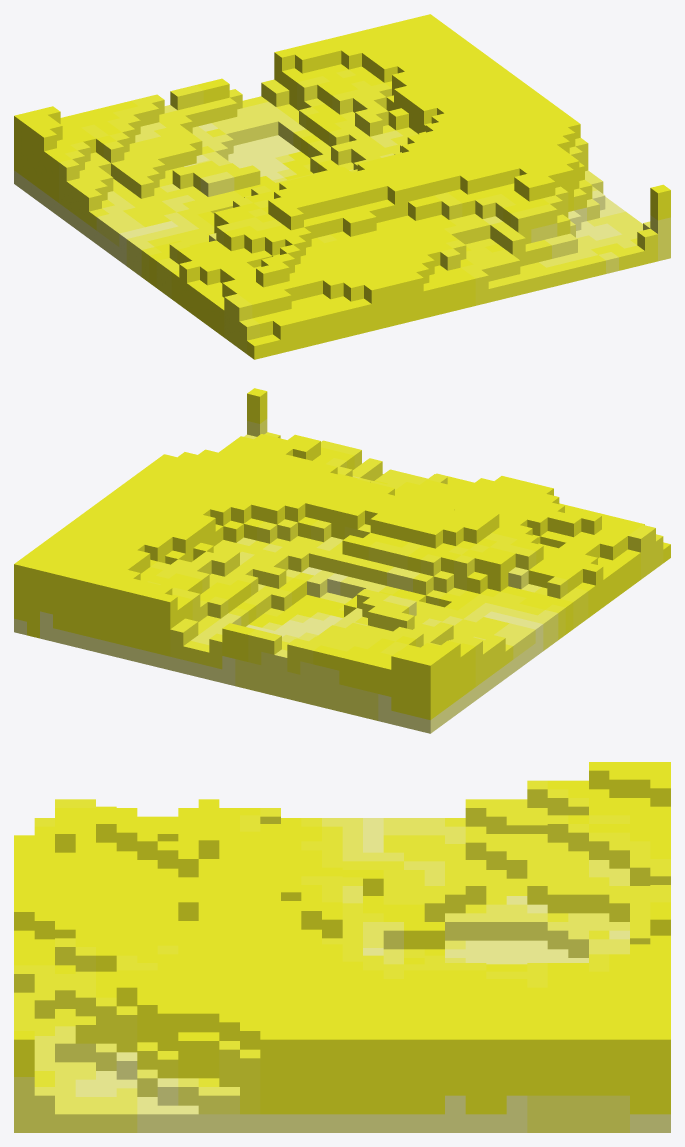
The model's file is Destert Map-20.obj.
3 renders of one model, top to bottom at view 1: azimuth 30°, elevation 25°; view 2: azimuth 150°, elevation 25°; view 3: azimuth 270°, elevation 25°, orthographic. The views are drawn at different scales.
Bounding box in the file's own units: 3.2 × 0.5 × 3.2.
Materials: 1 (1 with a texture image).
